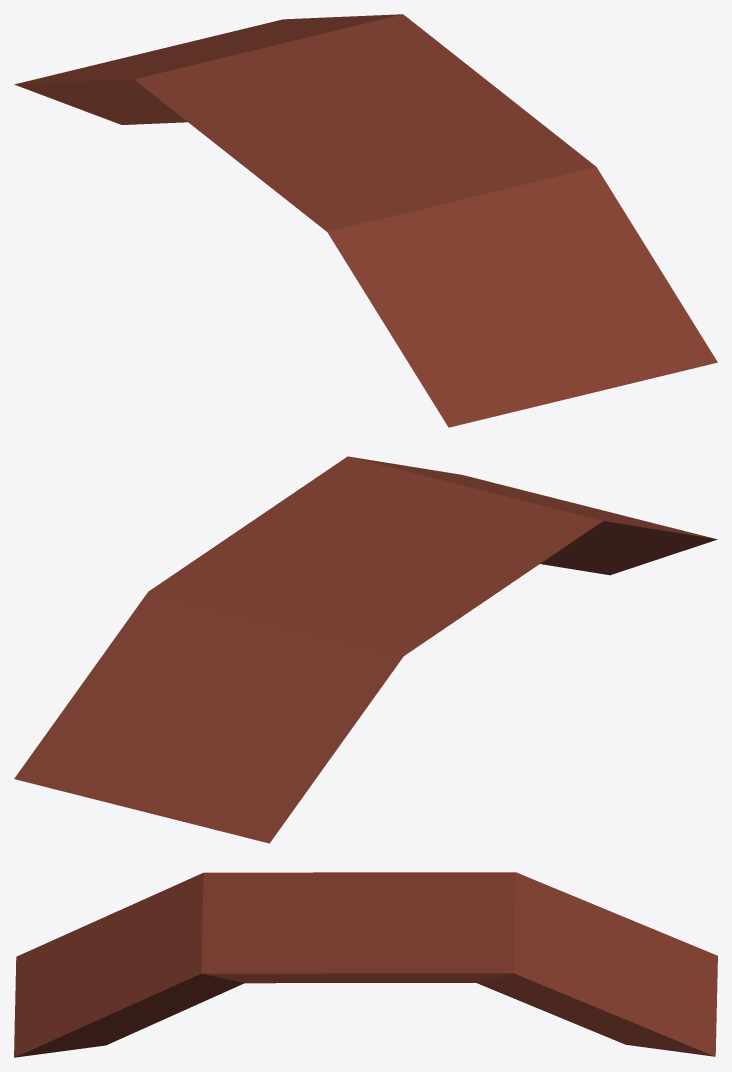
Rendered from puente.fbx.
The picture shows the model from 3 angles, top to bottom: view 1: azimuth 30°, elevation 25°; view 2: azimuth 150°, elevation 25°; view 3: azimuth 270°, elevation 25°; orthographic projection. The views are drawn at different scales.
Visible parts, largest first — view 1: Torus; view 2: Torus; view 3: Torus.
Part boxes in pixels (bbox=[...]): Torus: bbox=[14, 14, 717, 427]; Torus: bbox=[14, 456, 717, 843]; Torus: bbox=[14, 872, 717, 1057].
Size of the model in its own units: 468 by 188 by 1286.
